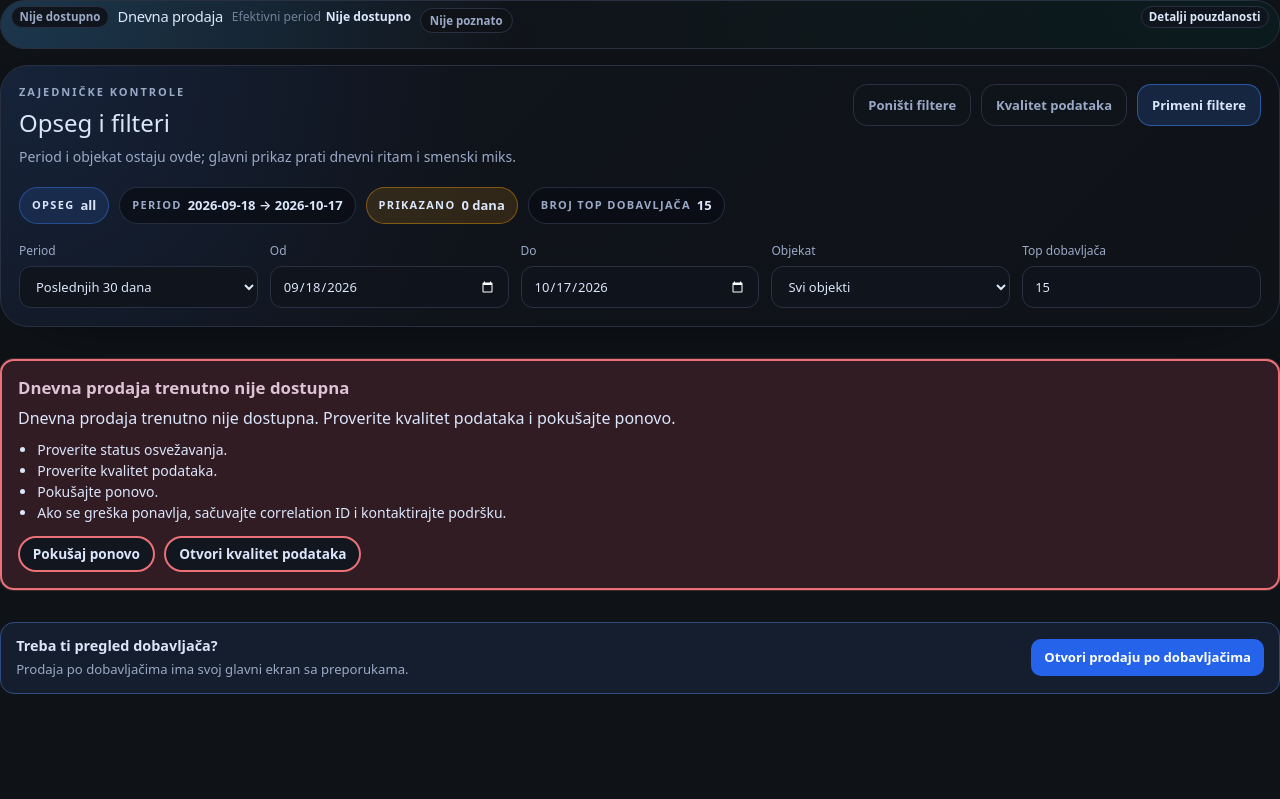
analytics trust-state header proof › Daily Sales mounts the real AnalyticsTrustHeader
This screenshot has width=1280, height=799.
Expected: the element named "Kontekst pouzdanosti analitike" is shown, [0,0,1279,49]
Expected: the message shows "Dnevna prodaja trenutno nije dostupna", [18,376,349,399]
What coordinates should you click on to do the following:
click the button with test id "analytics-trust-details-toggle"
I would click on:
 (1205, 17)
Its box is [1141,6,1269,28].
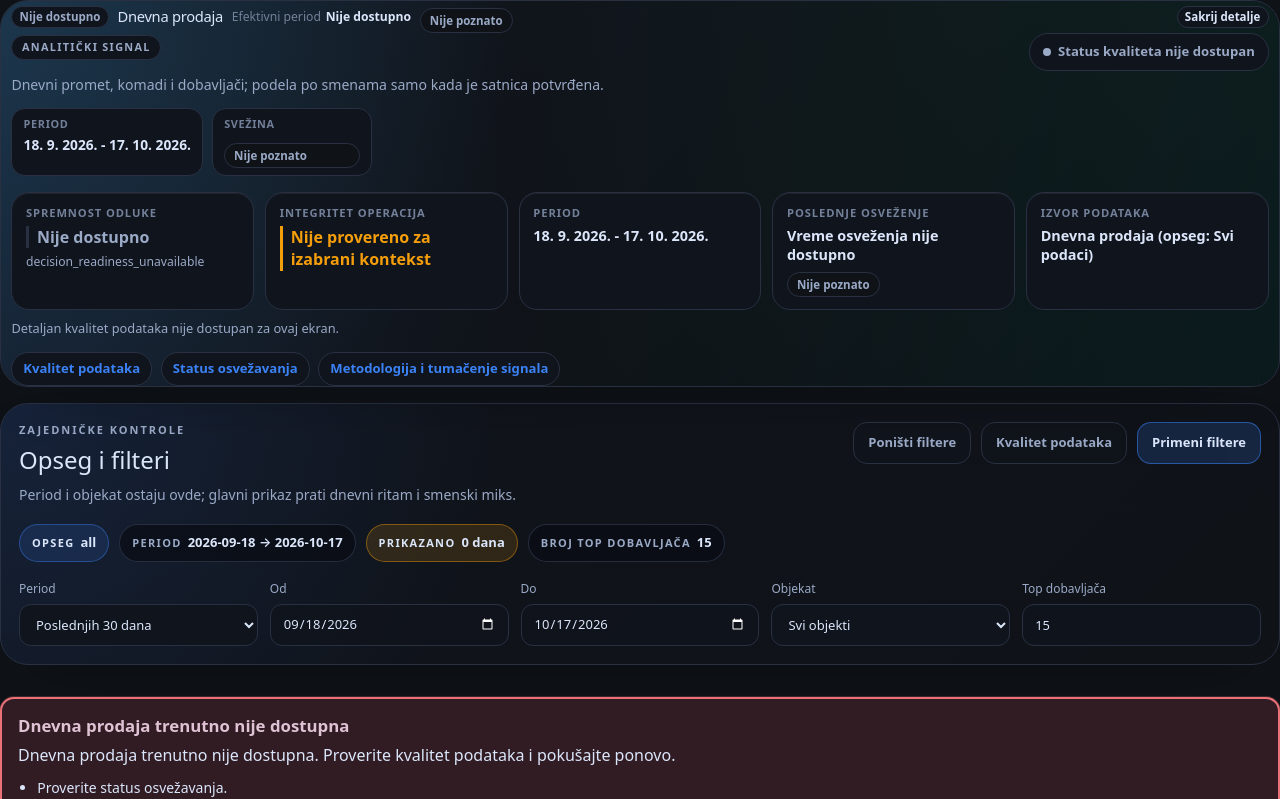
Expected: the text with test id "analytics-trust-readiness-state" reads "Nije dostupno", [37,226,149,248]
Expected: the text with test id "analytics-trust-integrity-state" reads "Nije provereno za izabrani kontekst", [291,226,431,270]
